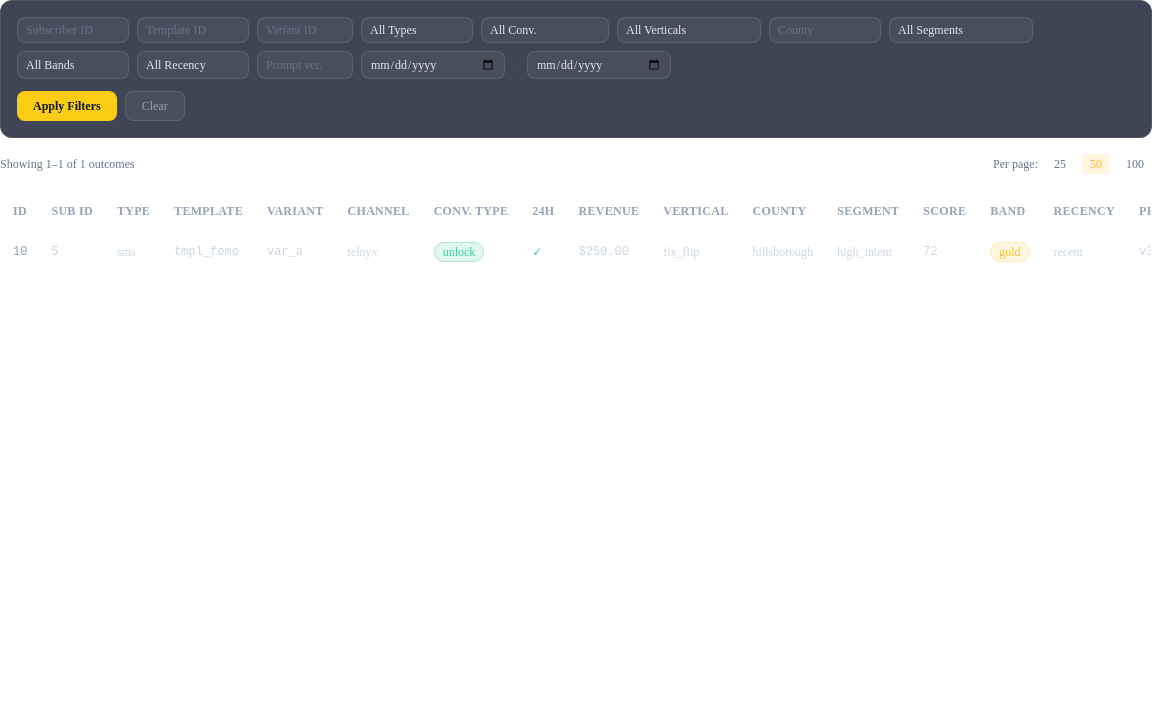
Scenario: SmsOutcomesDashboard — detail modal › closes detail modal
Click the text "hillsborough" at (783, 252), box [741,232,825,272]
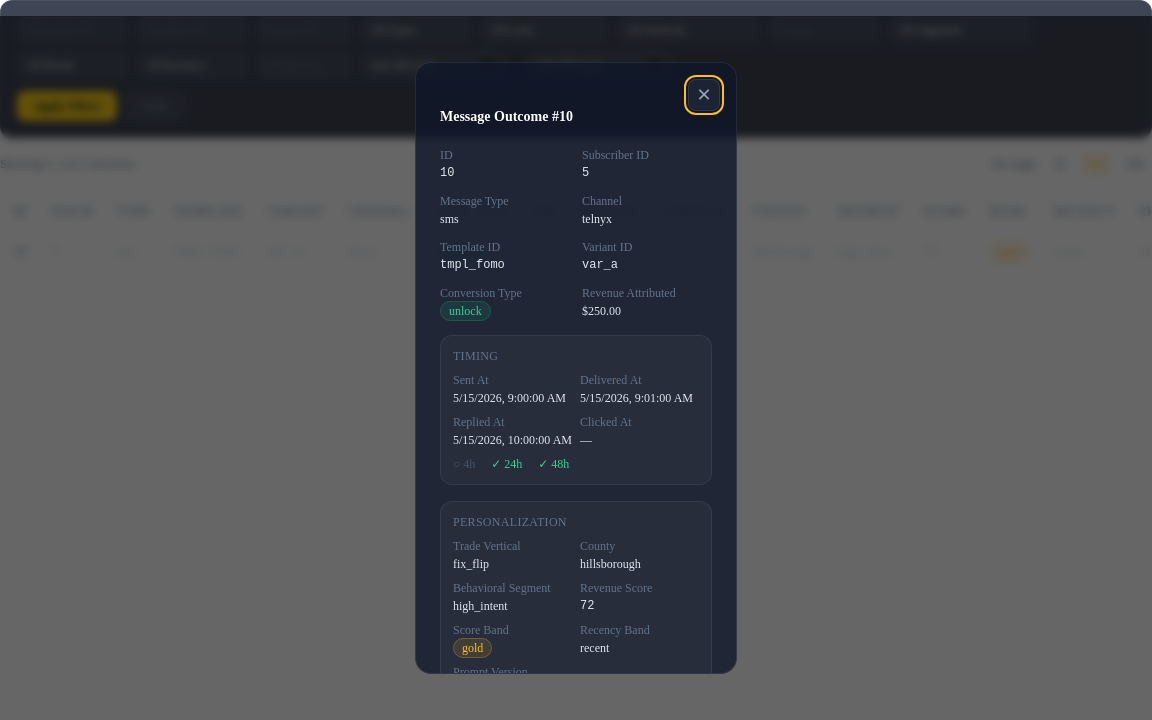
Result: the dialog is shown
Click the button named "close" at (704, 95), box [688,79,720,111]
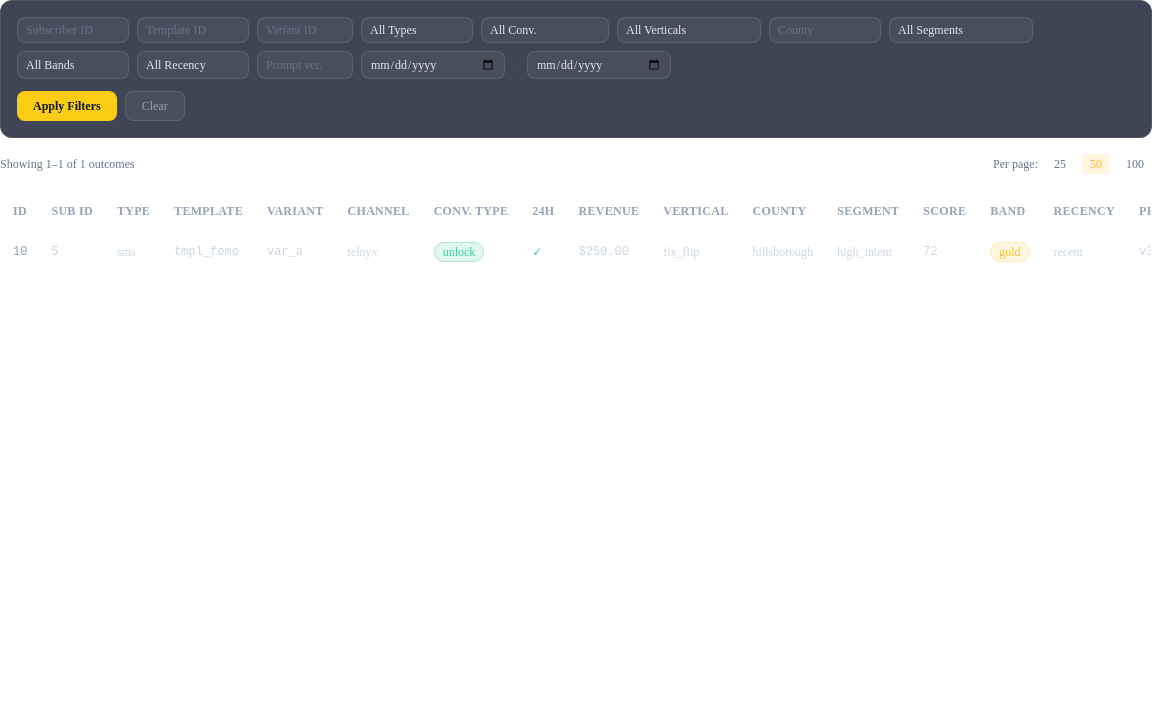
Result: the dialog is gone
